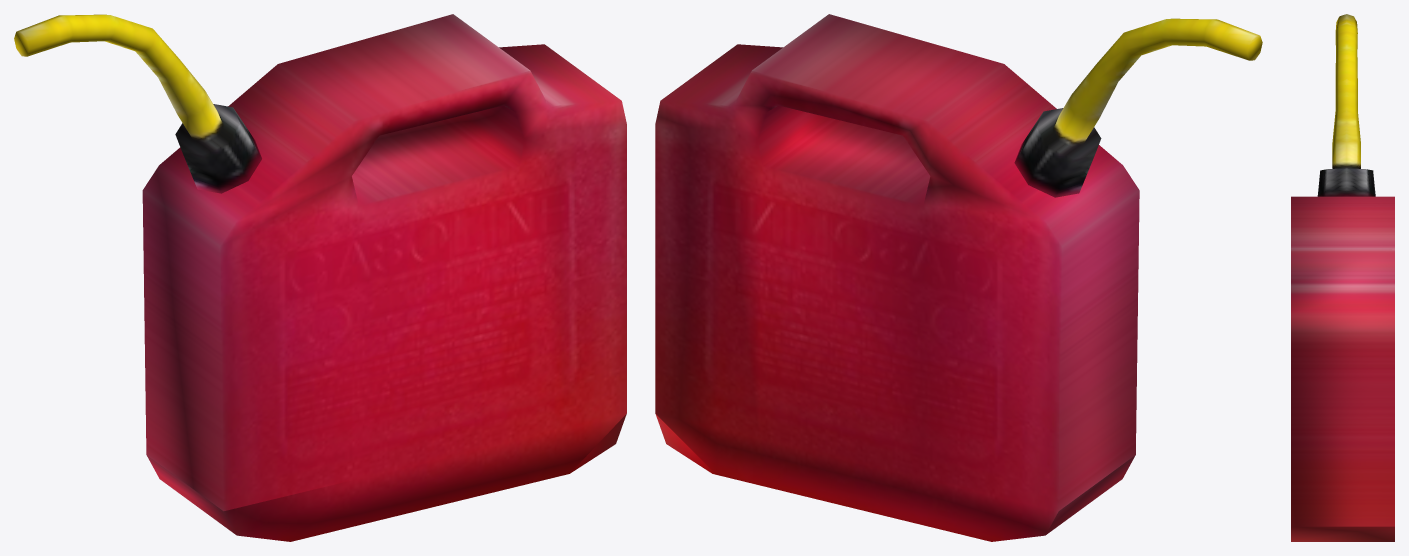
The model's file is motor_oil.fbx.
3 views of the same model, side by side, from view 1: azimuth 30°, elevation 25°; view 2: azimuth 150°, elevation 25°; view 3: azimuth 270°, elevation 25° (orthographic). The views are drawn at different scales.
Parts seen in each view (by area): view 1: motor_oil; view 2: motor_oil; view 3: motor_oil.
Part boxes in pixels (x1,y1,x2,y2): motor_oil: [14, 14, 626, 541]; motor_oil: [655, 14, 1262, 541]; motor_oil: [1291, 14, 1394, 541].
Size of the model in its own units: 101 by 92.94 by 24.05.
Materials: 1 (1 with a texture image).
